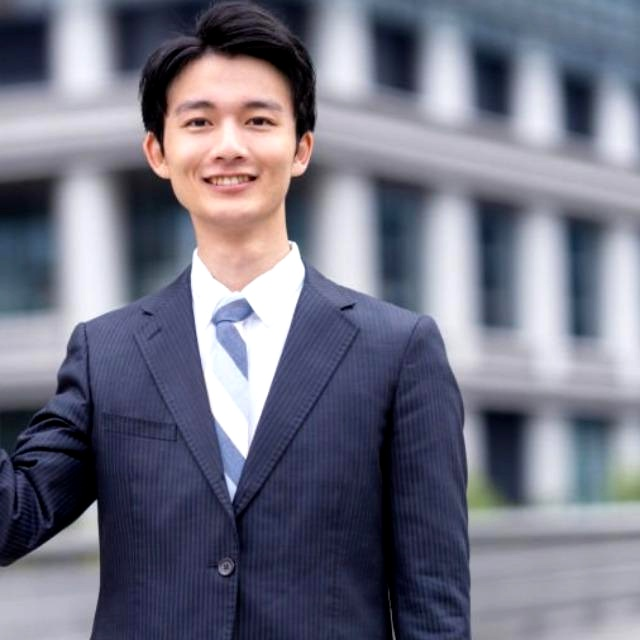Sin_Casco_Mascarrilla: (136, 3, 318, 225)
Sin_Chaleco: (67, 255, 449, 640)
